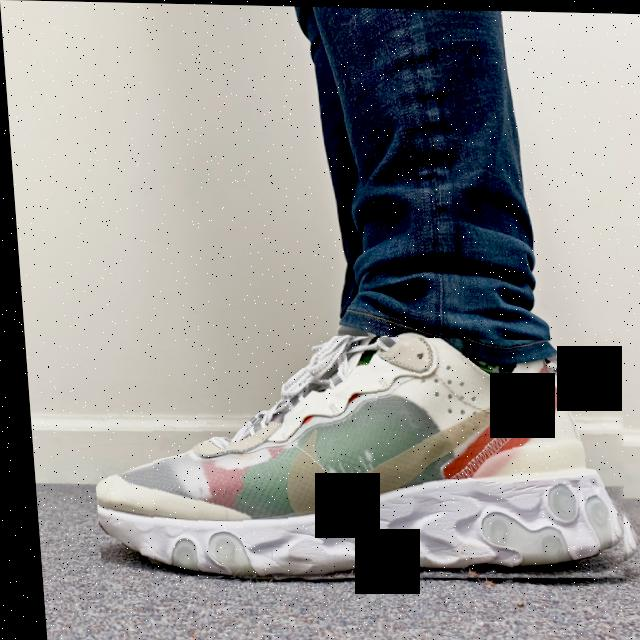shoe: (79, 330, 633, 587)
